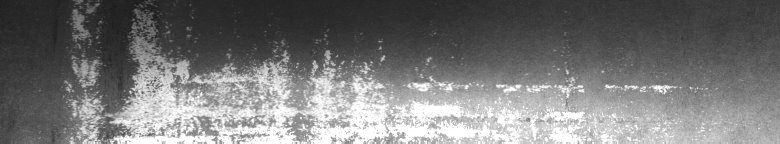kb: (62, 4, 703, 136)
